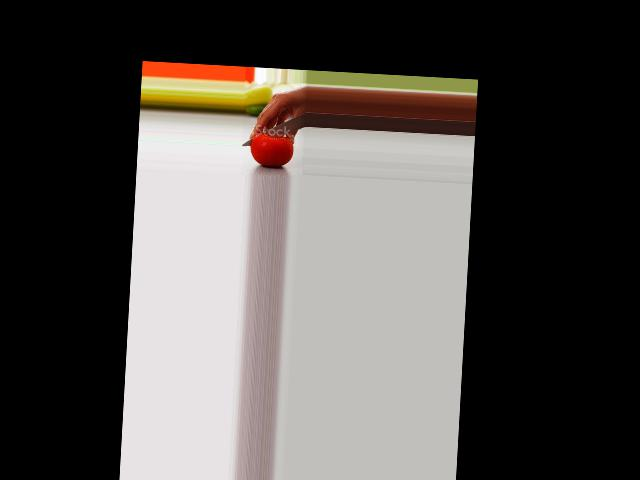tomato: (249, 132, 295, 168)
